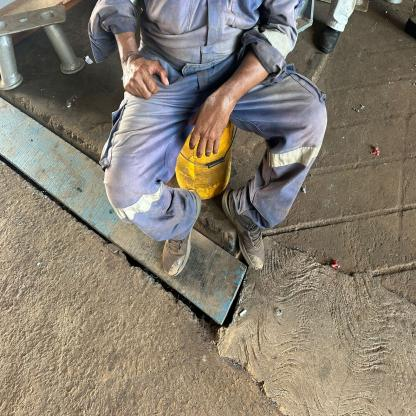bota: (216, 188, 278, 277), (160, 177, 202, 288)
